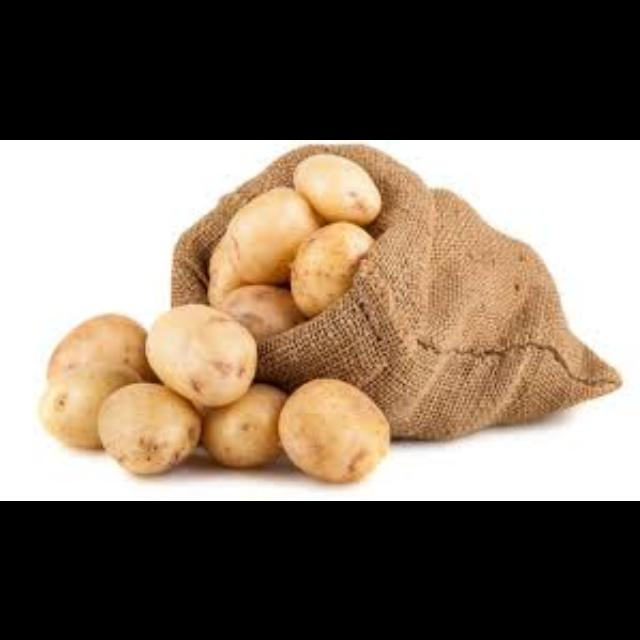Potato: (281, 379, 393, 479), (153, 302, 259, 398), (100, 381, 204, 472), (36, 369, 144, 449), (226, 185, 316, 281), (46, 308, 150, 382), (291, 219, 367, 317), (205, 382, 279, 480), (296, 153, 384, 229)
